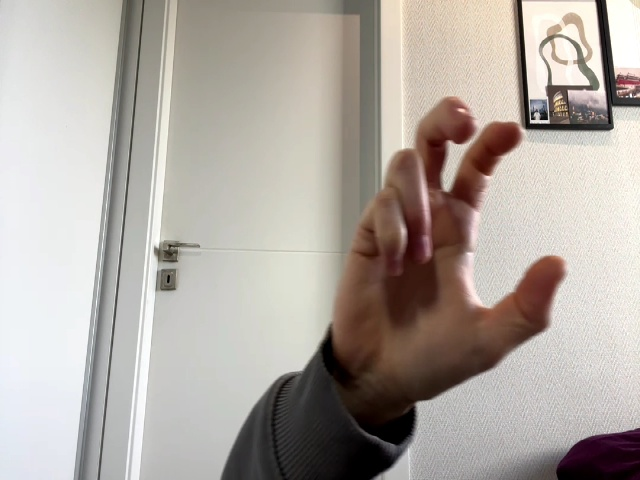CH: (333, 98, 569, 409)
